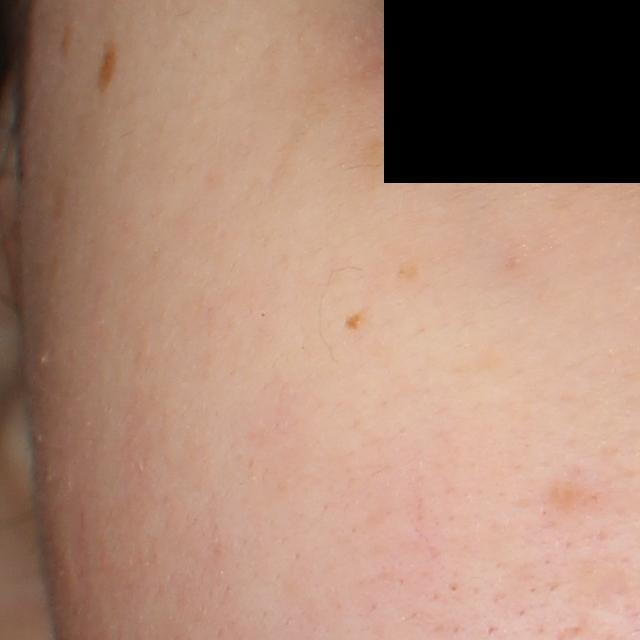melasma: (356, 136, 410, 180), (95, 39, 119, 100), (342, 306, 371, 334)
